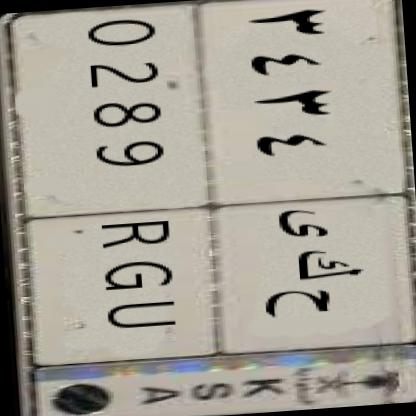english: (0, 0, 235, 374)
